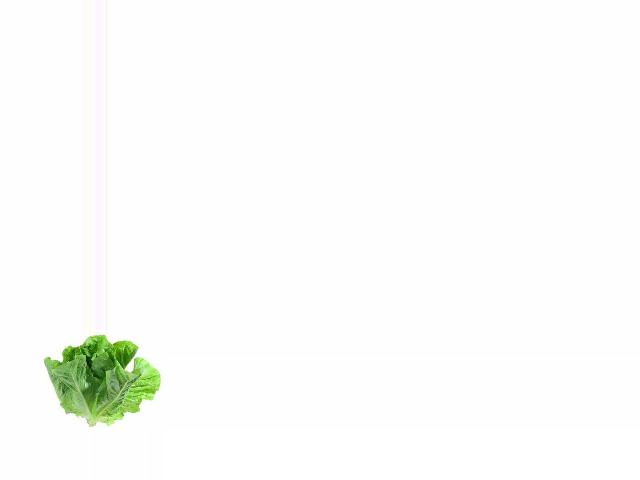lettuce: (42, 335, 159, 422)
